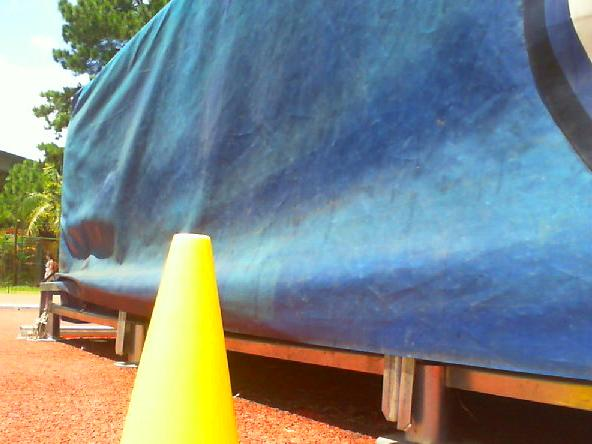0 cone: (112, 233, 245, 444)
